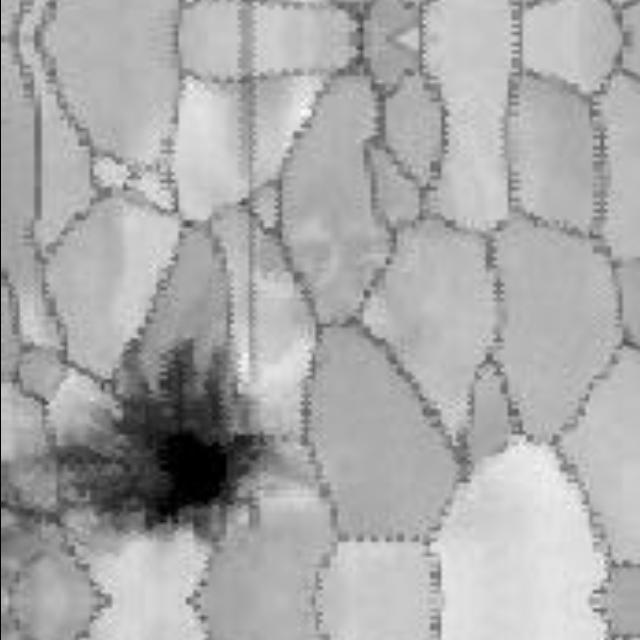good_void: (31, 336, 296, 551)
